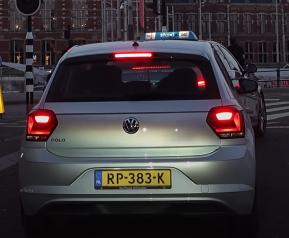license-plate: (92, 169, 173, 191)
